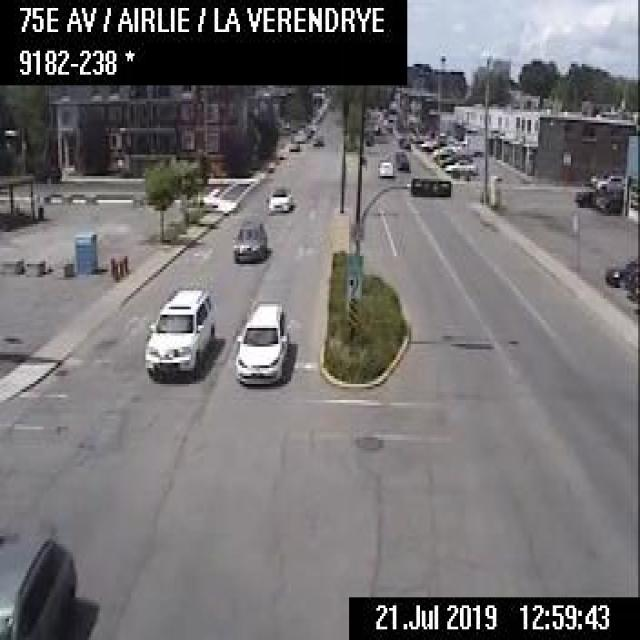construction: (113, 258, 119, 281), (118, 254, 124, 276), (109, 255, 114, 275)
vehicle: (0, 511, 76, 637), (142, 283, 216, 384), (231, 301, 290, 387), (229, 214, 268, 262), (605, 253, 637, 287), (265, 182, 293, 214), (593, 170, 629, 194), (443, 156, 477, 175), (391, 148, 409, 171), (432, 142, 459, 157), (377, 156, 392, 176), (311, 128, 324, 146), (286, 138, 299, 151)
